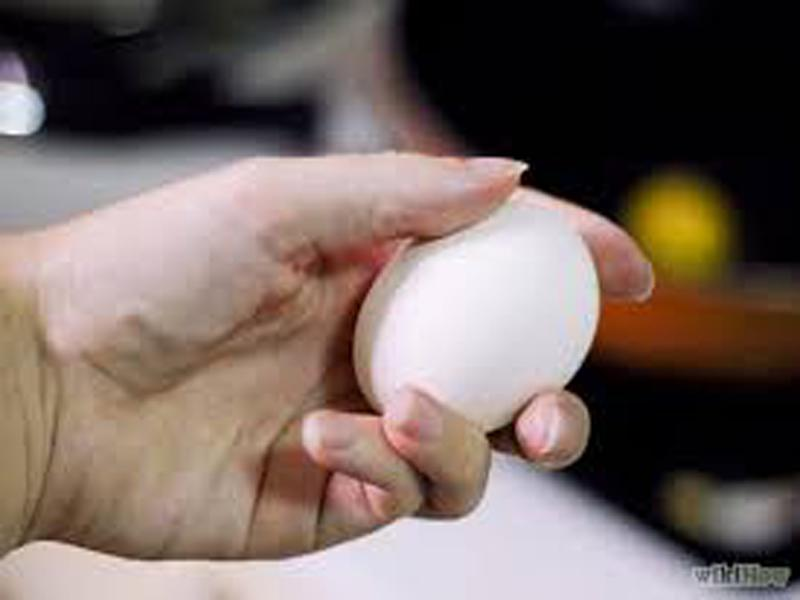Eggs: (355, 203, 602, 430)
